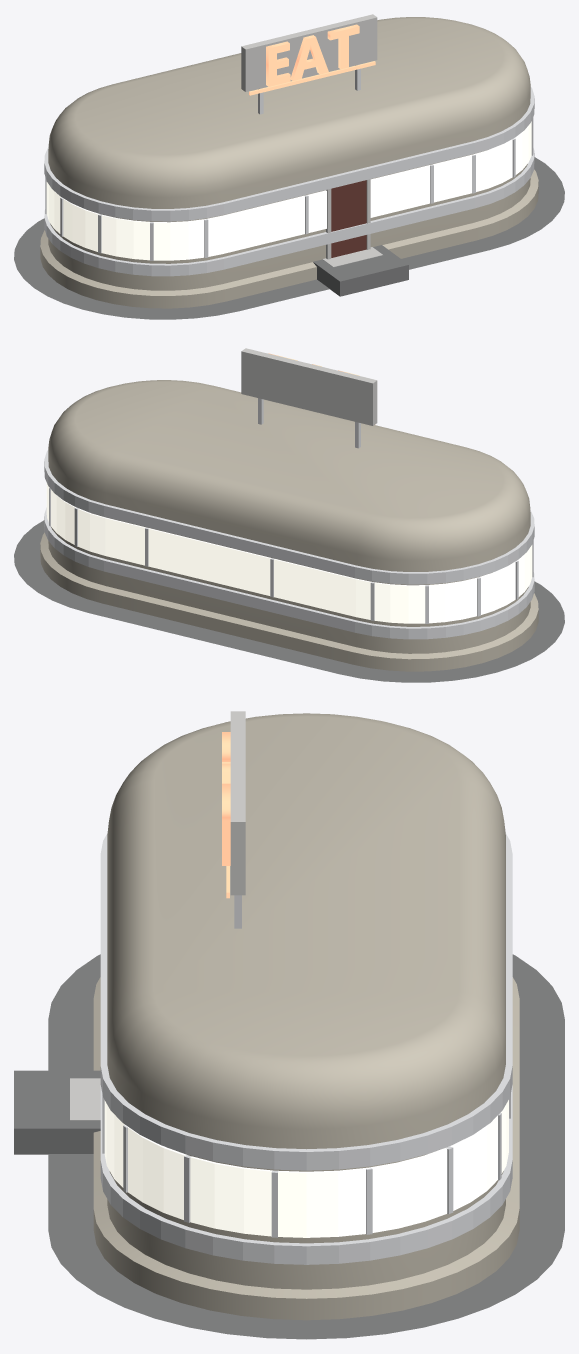
Rendered from city_diner.fbx.
3 renders of one model, top to bottom at view 1: azimuth 30°, elevation 25°; view 2: azimuth 150°, elevation 25°; view 3: azimuth 270°, elevation 25°, orthographic. The views are drawn at different scales.
Visible parts, largest first — view 1: cream_1, glasslit_1, chrome_1, concrete_1, trim_1, neonred_1, door_1; view 2: cream_1, glasslit_1, chrome_1, concrete_1, trim_1; view 3: cream_1, concrete_1, chrome_1, glasslit_1, trim_1, neonred_1.
Part boxes in pixels (box(x1,y1,x2,y2)): cream_1: box(40, 17, 538, 308); glasslit_1: box(46, 121, 531, 260); chrome_1: box(44, 64, 534, 276); concrete_1: box(14, 157, 564, 319); trim_1: box(241, 14, 382, 267); neonred_1: box(249, 24, 375, 95); door_1: box(331, 180, 366, 257); cream_1: box(40, 380, 538, 671); glasslit_1: box(46, 483, 532, 623); chrome_1: box(44, 398, 534, 639); concrete_1: box(14, 520, 564, 682); trim_1: box(241, 348, 377, 425); cream_1: box(93, 713, 519, 1320); concrete_1: box(14, 954, 564, 1339); chrome_1: box(100, 833, 512, 1264); glasslit_1: box(104, 1100, 508, 1237); trim_1: box(70, 711, 245, 1120); neonred_1: box(222, 732, 230, 898).
Bounding box in the file's own units: 1.63 × 0.637 × 0.885.
